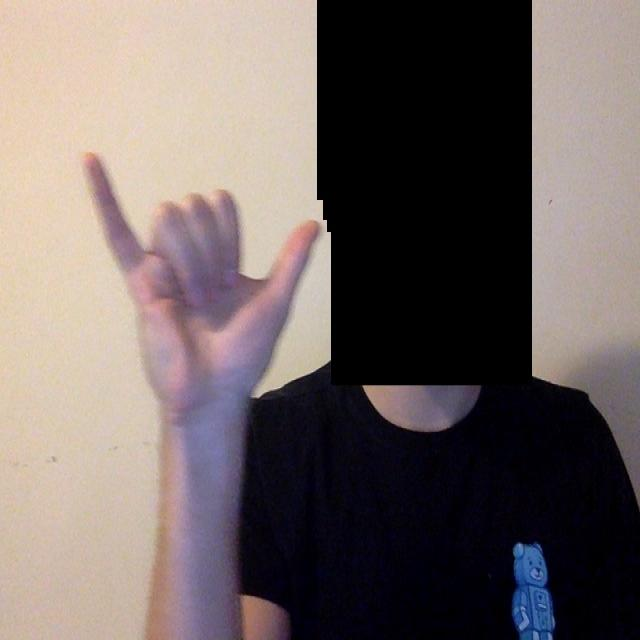Y: (79, 127, 329, 434)
